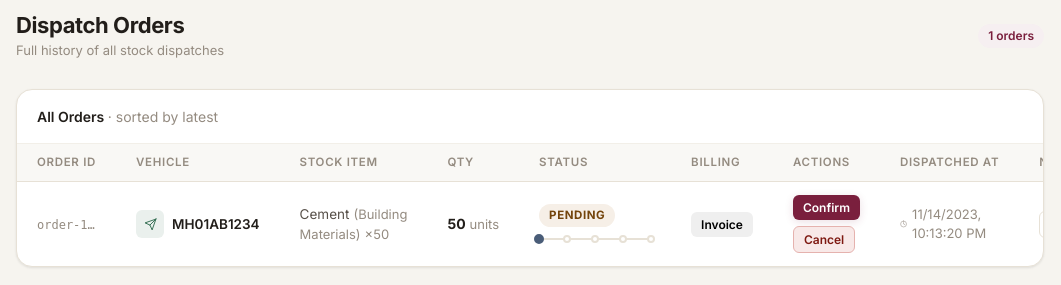
Test: Dispatches page › advances a transition that needs no proof and updates the row from the response
Expected: the text "PENDING" is shown, [539,204,615,227]
Click the button "Confirm" at {"x": 826, "y": 208}, box [793,195,860,220]
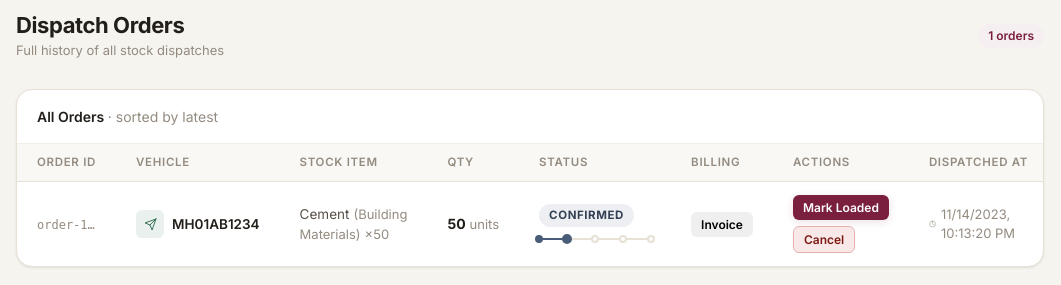
Expected: the text "CONFIRMED" is shown, [539,204,634,227]
Expected: the button "Mark Loaded" is shown, [793,195,889,220]
